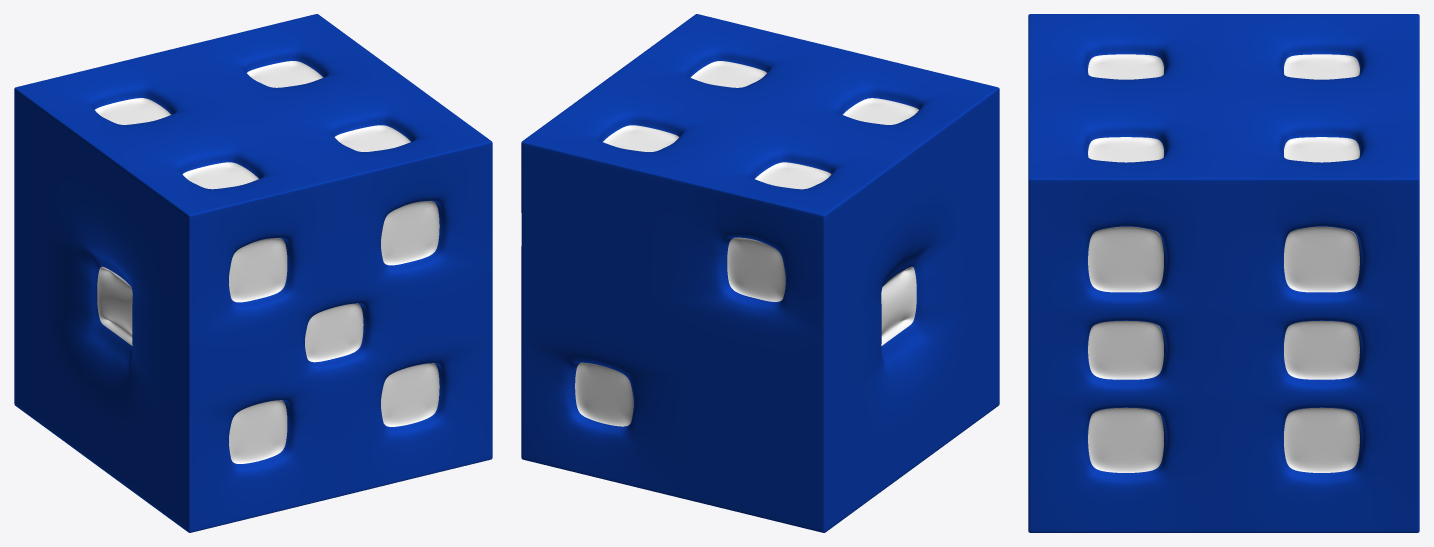
The model's file is 6sidedDice.fbx.
The picture shows the model from 3 angles, left to right: view 1: azimuth 30°, elevation 25°; view 2: azimuth 150°, elevation 25°; view 3: azimuth 270°, elevation 25°; orthographic projection. The views are drawn at different scales.
Parts seen in each view (by area): view 1: Cube; view 2: Cube; view 3: Cube.
Boxes of the visible parts, left/top/right/bottom form: Cube: left=14, top=14, right=492, bottom=532; Cube: left=521, top=14, right=999, bottom=532; Cube: left=1028, top=14, right=1419, bottom=532.
Bounding box in the file's own units: 95.22 × 95.22 × 95.23.
